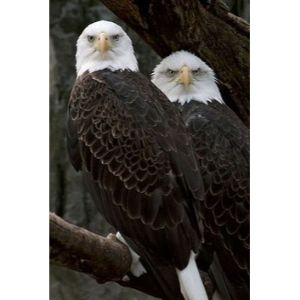eagle: (71, 19, 214, 300), (148, 45, 250, 276)
